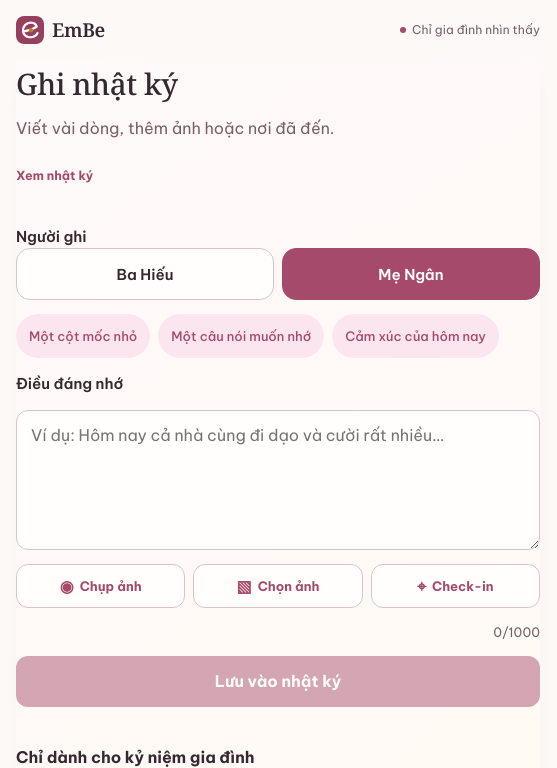
Test: one-handed family journal › never promises a sync it cannot deliver after the session expires
Type "Ghi chú viết sau khi phiên hết hạn." into the text box labelled "Điều đáng nhớ" at (278, 480), box [16,410,540,550]
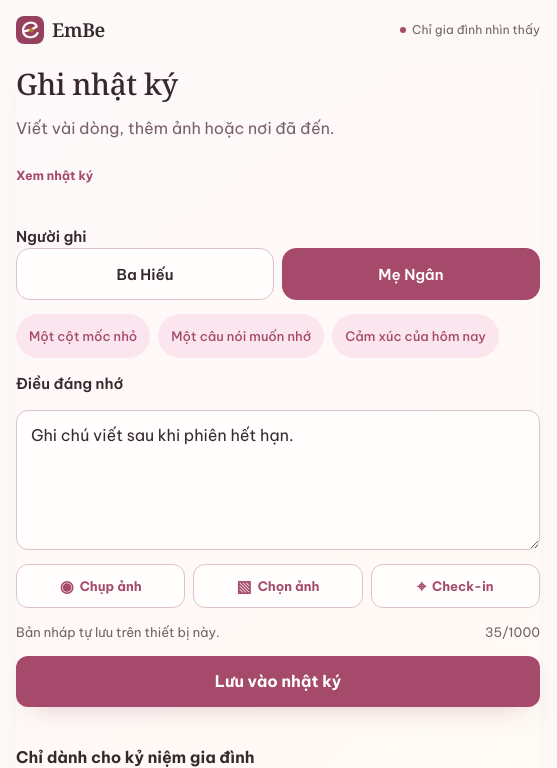
Click the button "Lưu vào nhật ký" at (278, 681), box [16,656,540,706]
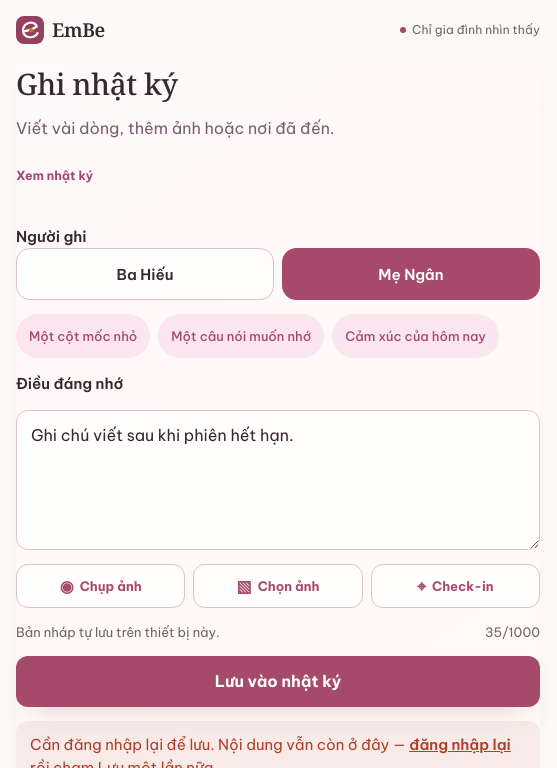
Check: the message shows "Cần đăng nhập lại", box [30,734,409,754]
